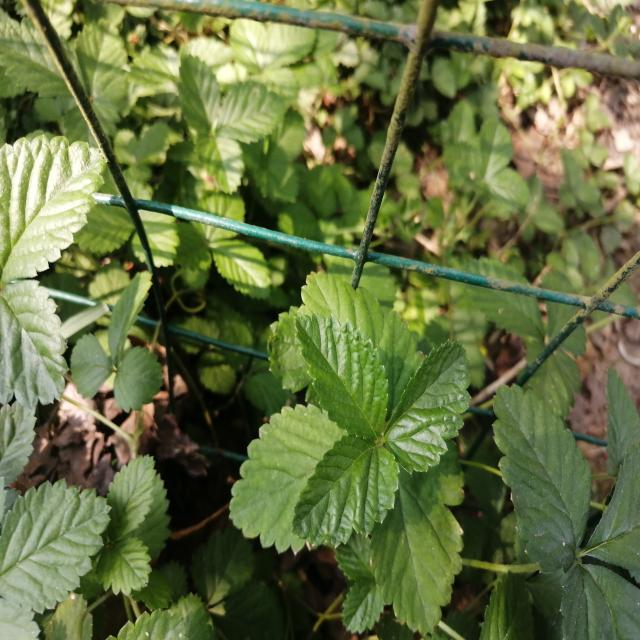Mock_strawberry: (219, 282, 476, 574)
